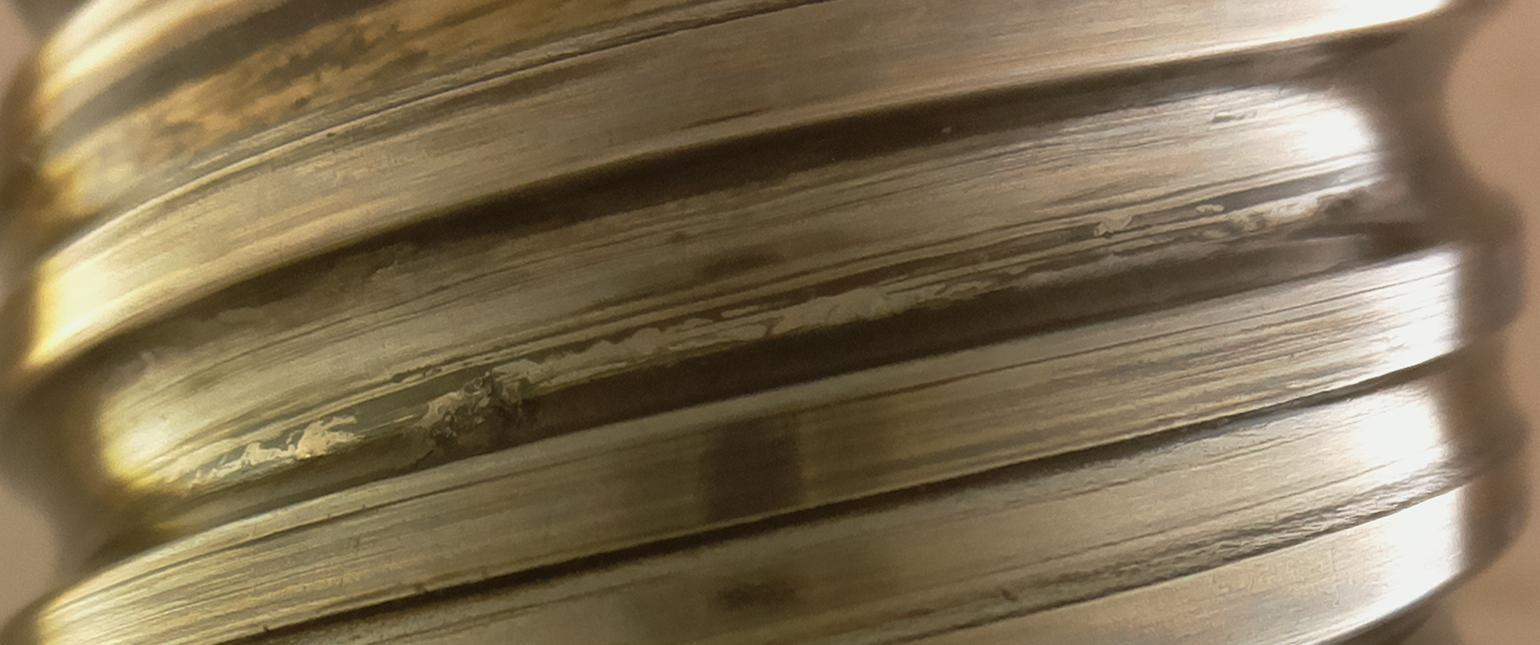pitting: (411, 368, 541, 468)
